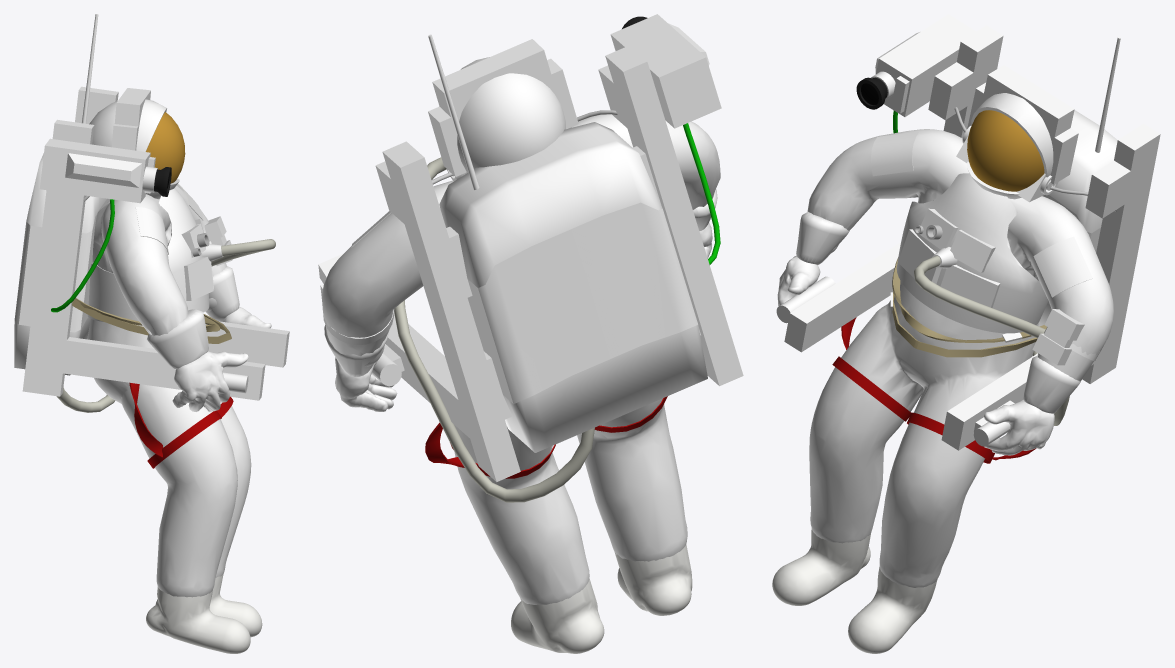
Rendered from astronaut.fbx.
3 renders of one model, left to right at view 1: azimuth 30°, elevation 25°; view 2: azimuth 150°, elevation 25°; view 3: azimuth 270°, elevation 25°, orthographic. The views are drawn at different scales.
Visible parts, largest first — view 1: Körper, Quader14, Rucksack, Stiefel rechts, Brustpanzer, Quader25, Quader17, Quader26, Visier01, Visier, Teil über Helm, Extrudieren04 (+10 smaller); view 2: Rucksack, Körper, Quader17, Quader14, Visier01, Quader25, Teil über Helm, Extrudieren04, Stiefel links, Stiefel rechts, Zylinder18, Extrudieren01 (+3 smaller); view 3: Körper, Quader17, Brustpanzer, Quader14, Visier, Quader25, Stiefel rechts, Stiefel links, Teil über Helm, Rucksack, Visier01, Extrudieren04 (+14 smaller).
Part boxes in pixels (x1,y1,x2,y2): Körper: (87, 184, 271, 597); Quader14: (22, 119, 265, 400); Rucksack: (14, 153, 110, 375); Stiefel rechts: (146, 587, 250, 653); Brustpanzer: (87, 188, 209, 321); Quader25: (39, 138, 150, 203); Quader17: (75, 86, 289, 367); Quader26: (65, 153, 141, 187); Visier01: (89, 99, 179, 199); Visier: (146, 112, 185, 183); Teil über Helm: (111, 88, 150, 150); Extrudieren04: (56, 239, 275, 412); Rucksack: (439, 122, 707, 452); Körper: (322, 114, 720, 604); Quader17: (375, 141, 520, 481); Quader14: (598, 45, 743, 386); Visier01: (457, 57, 565, 174); Quader25: (610, 14, 721, 128); Teil über Helm: (428, 39, 578, 176); Extrudieren04: (394, 157, 594, 502); Stiefel links: (511, 578, 604, 653); Stiefel rechts: (614, 544, 692, 615); Zylinder18: (428, 34, 479, 189); Extrudieren01: (683, 123, 720, 264); Körper: (777, 129, 1113, 587); Quader17: (941, 123, 1160, 450); Brustpanzer: (896, 173, 1048, 333); Quader14: (784, 25, 1003, 352); Visier: (967, 110, 1044, 191); Quader25: (876, 14, 976, 116); Stiefel rechts: (772, 528, 871, 605); Stiefel links: (848, 566, 937, 653); Teil über Helm: (967, 65, 1078, 184); Rucksack: (1038, 110, 1117, 326); Visier01: (967, 93, 1053, 199); Extrudieren04: (914, 256, 1069, 425).
Size of the model in its own units: 59.57 by 112 by 66.34.
